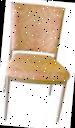Silla: (0, 2, 74, 128)
